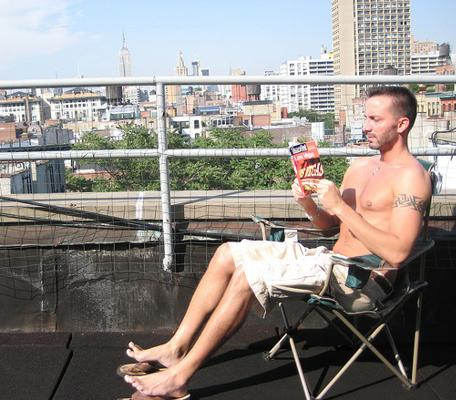person: (122, 87, 436, 400)
